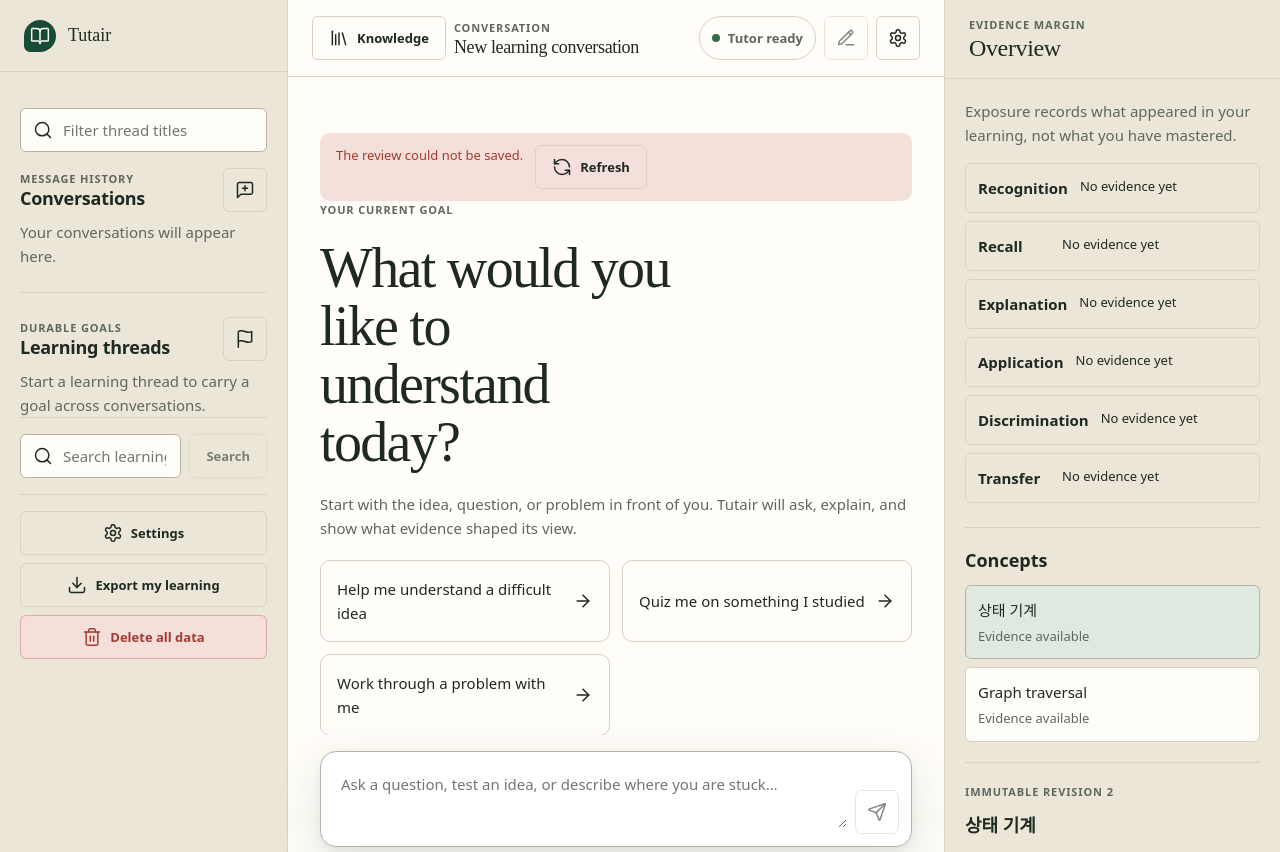
Test: knowledge manager › retains restore confirmation when the request fails
Click the button with aria-label "Manage knowledge": (379, 38) [312,16,446,60]
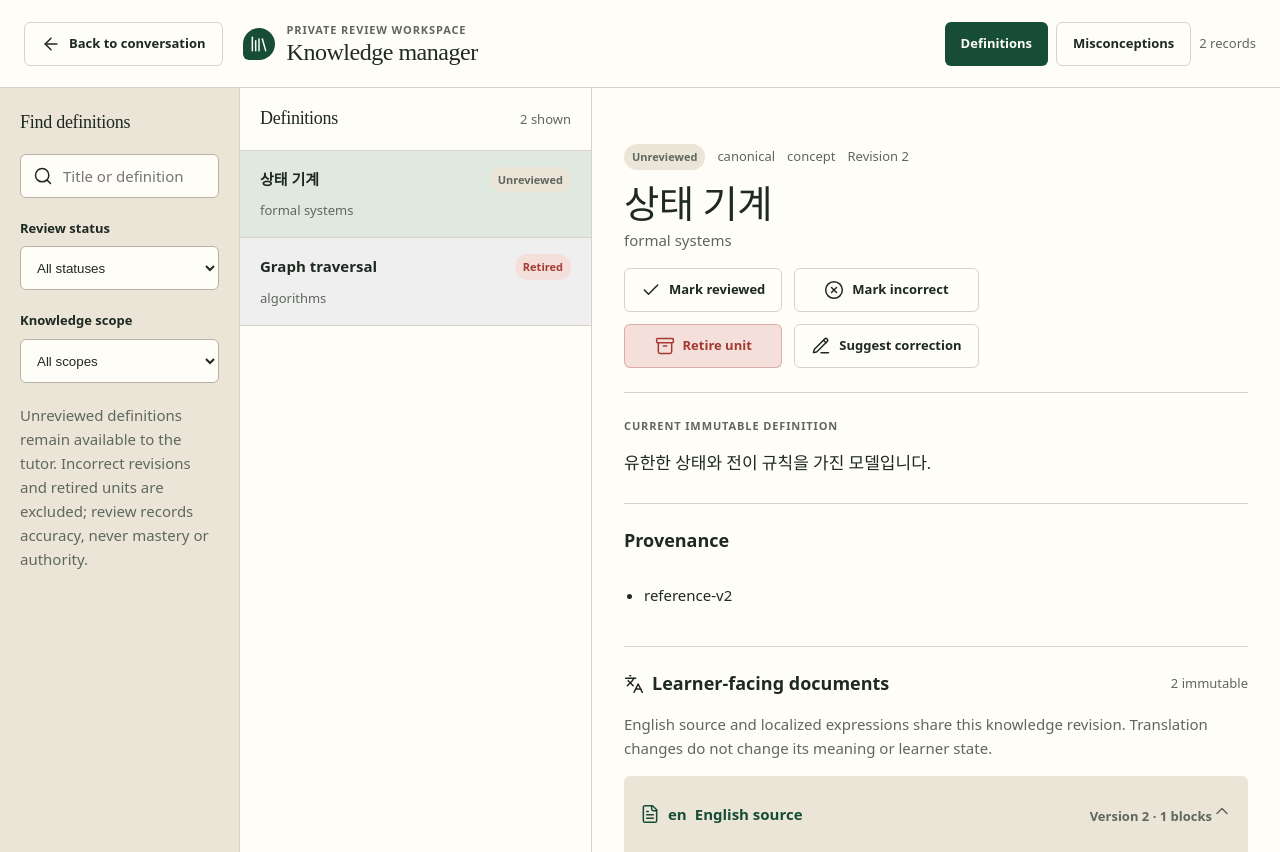
Click the button "Graph traversal retired algorithms": (319, 266) [240,238,591,326]
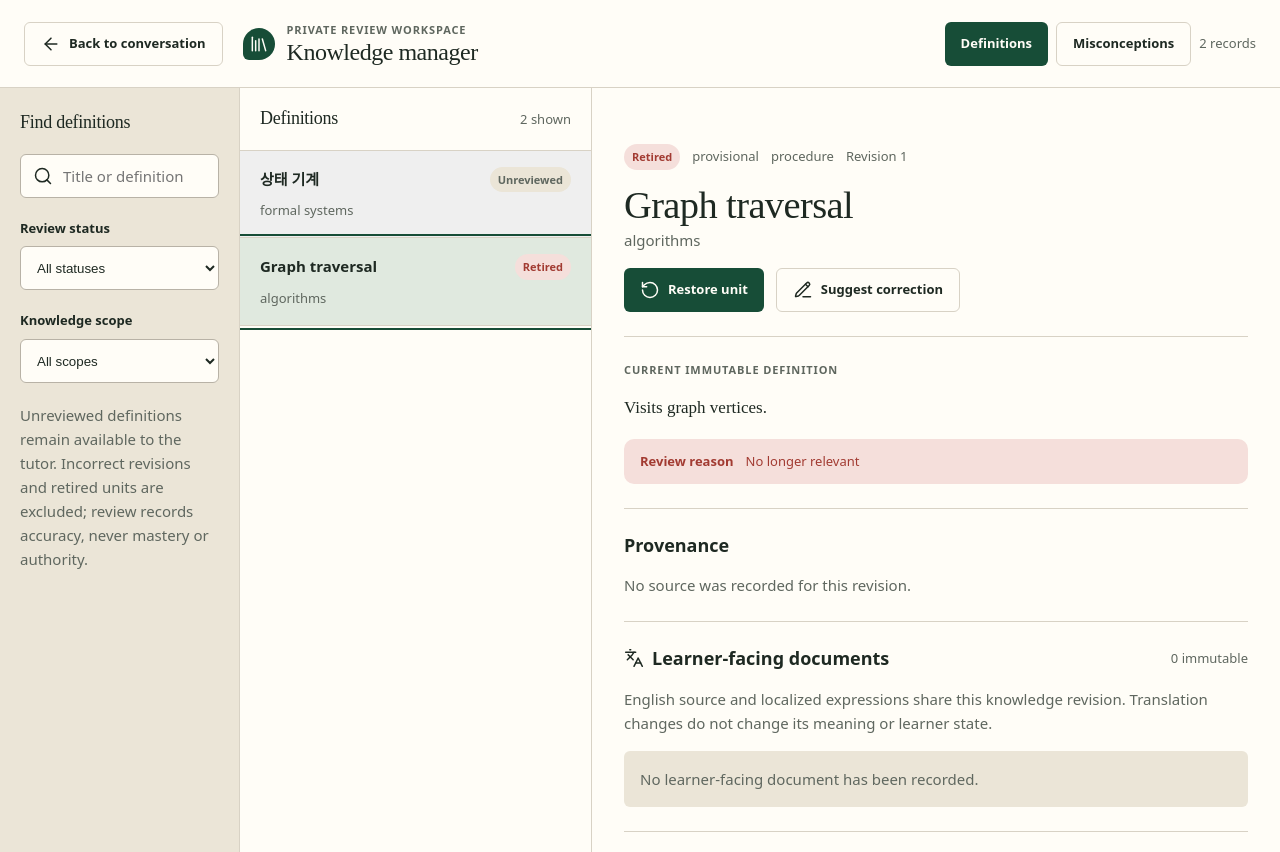
Click the button "Restore unit": (694, 290) [624,268,764,312]
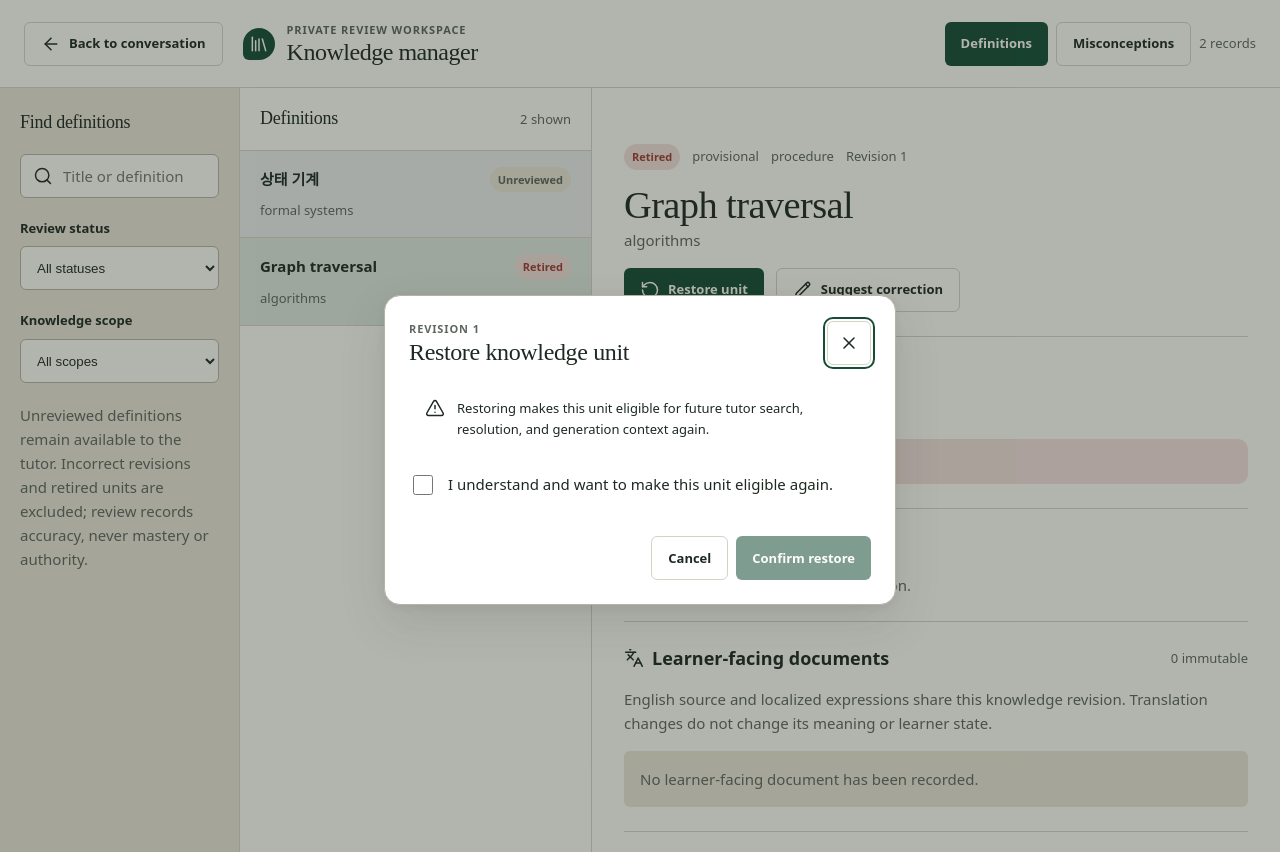
Click the checkbox labelled "I understand and want to make this unit eligible again.": (423, 485) [413,475,433,495]
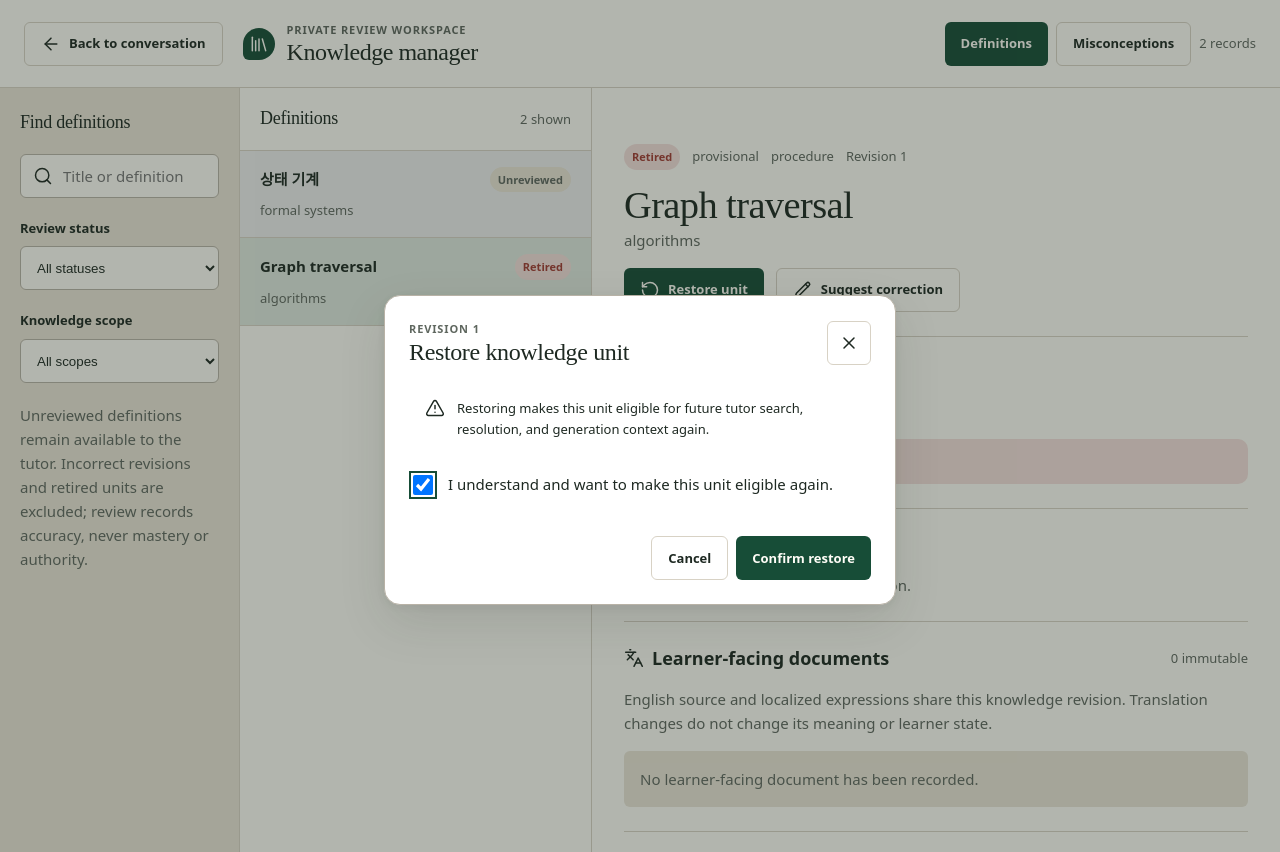
Click the button "Confirm restore": (804, 558) [736,536,871,580]
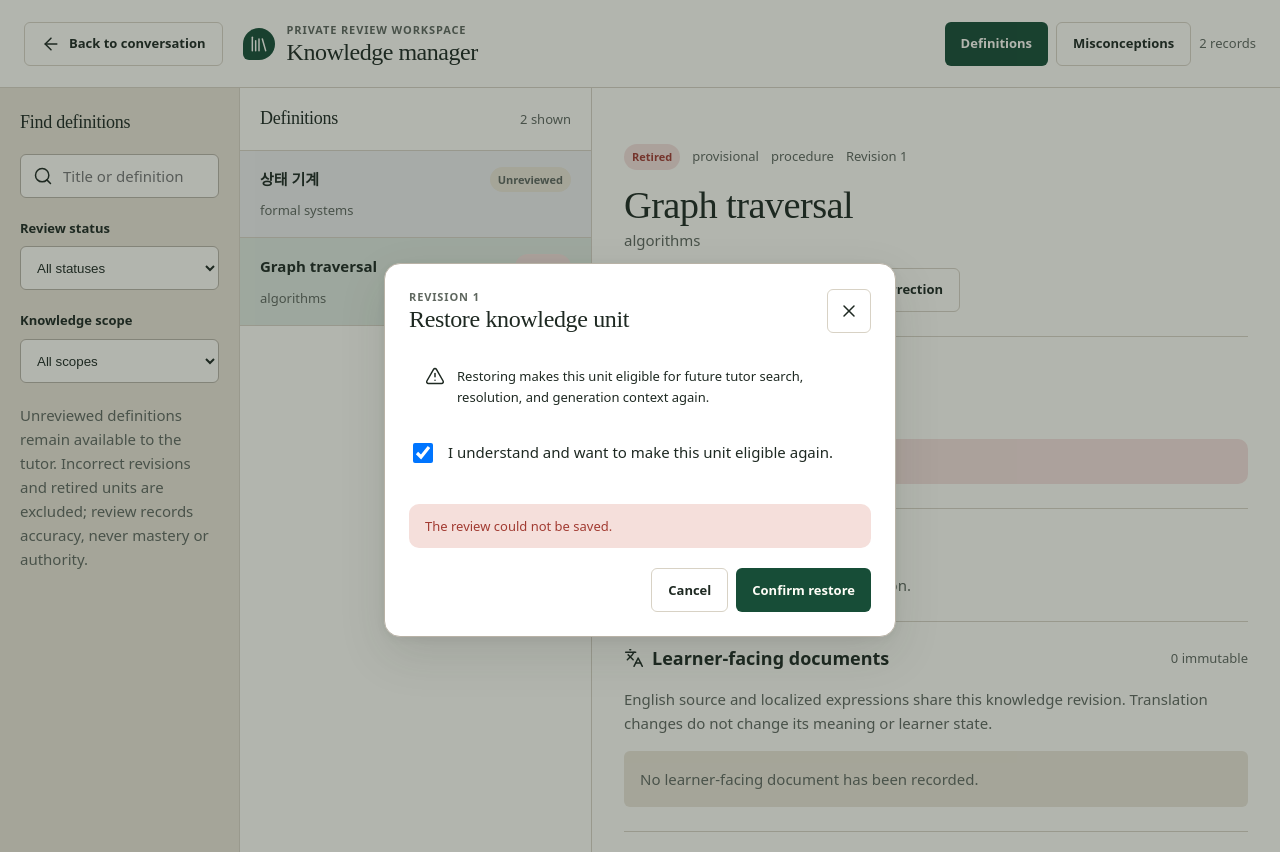
Expected: the checkbox labelled "I understand and want to make this unit eligible again." is checked, [413,443,433,463]
Expected: the message shows "could not be saved", [425,517,612,535]
